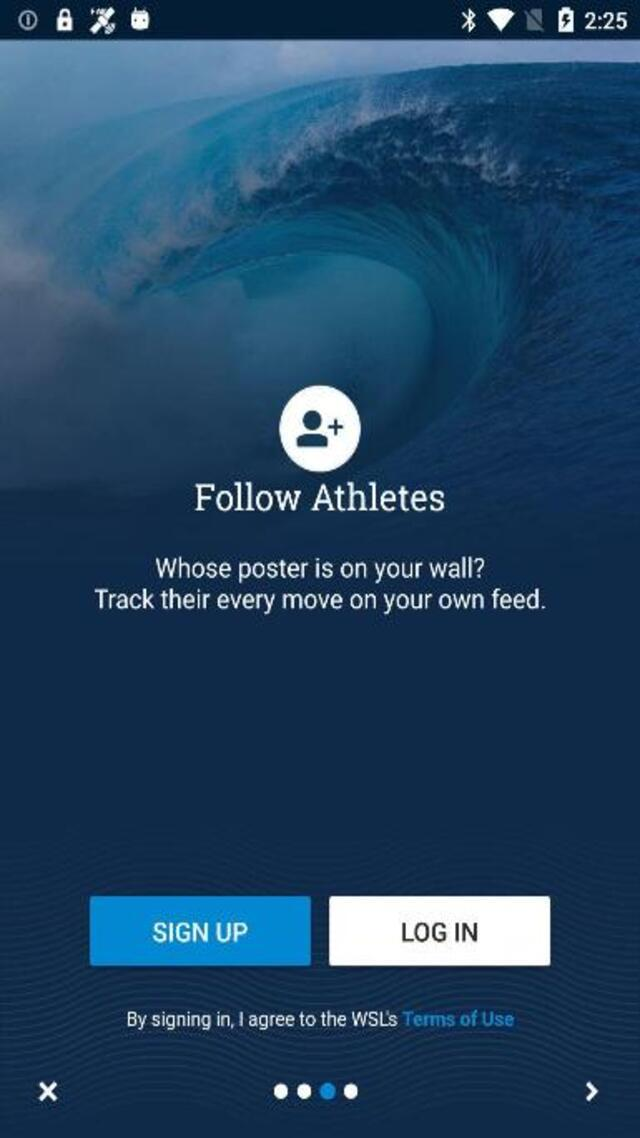Icon: (278, 385, 359, 472), (38, 1082, 58, 1102), (586, 1082, 598, 1102)
Text: (92, 588, 549, 616), (150, 555, 492, 585), (194, 481, 446, 516), (128, 1009, 514, 1029)
TextButton: (330, 896, 551, 964), (89, 896, 310, 964)
